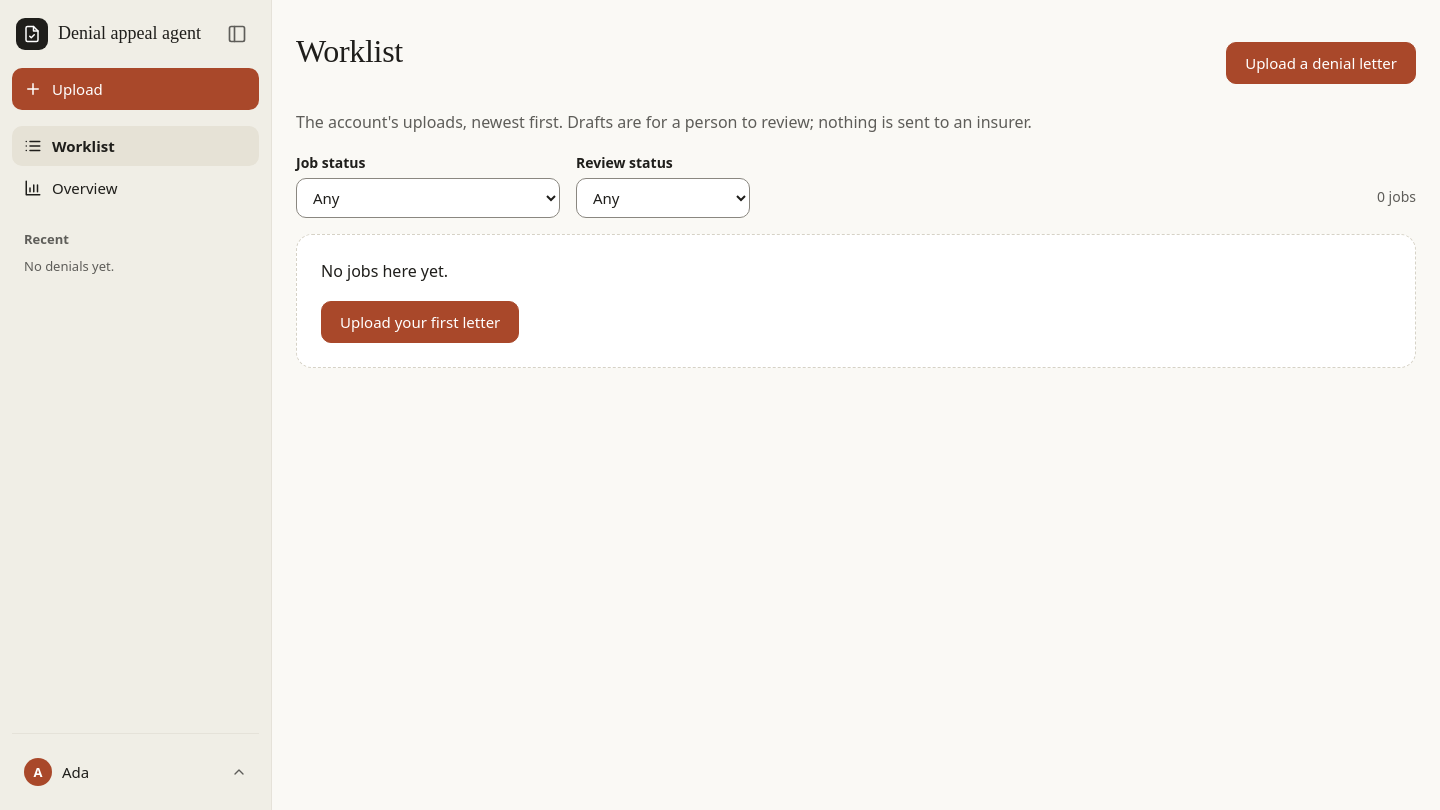
Test: AppLayout › closes the menu when Tab moves the focus out of it, not while it stays inside
Click the button "A Ada" at {"x": 136, "y": 772}, box [16,750,255,794]
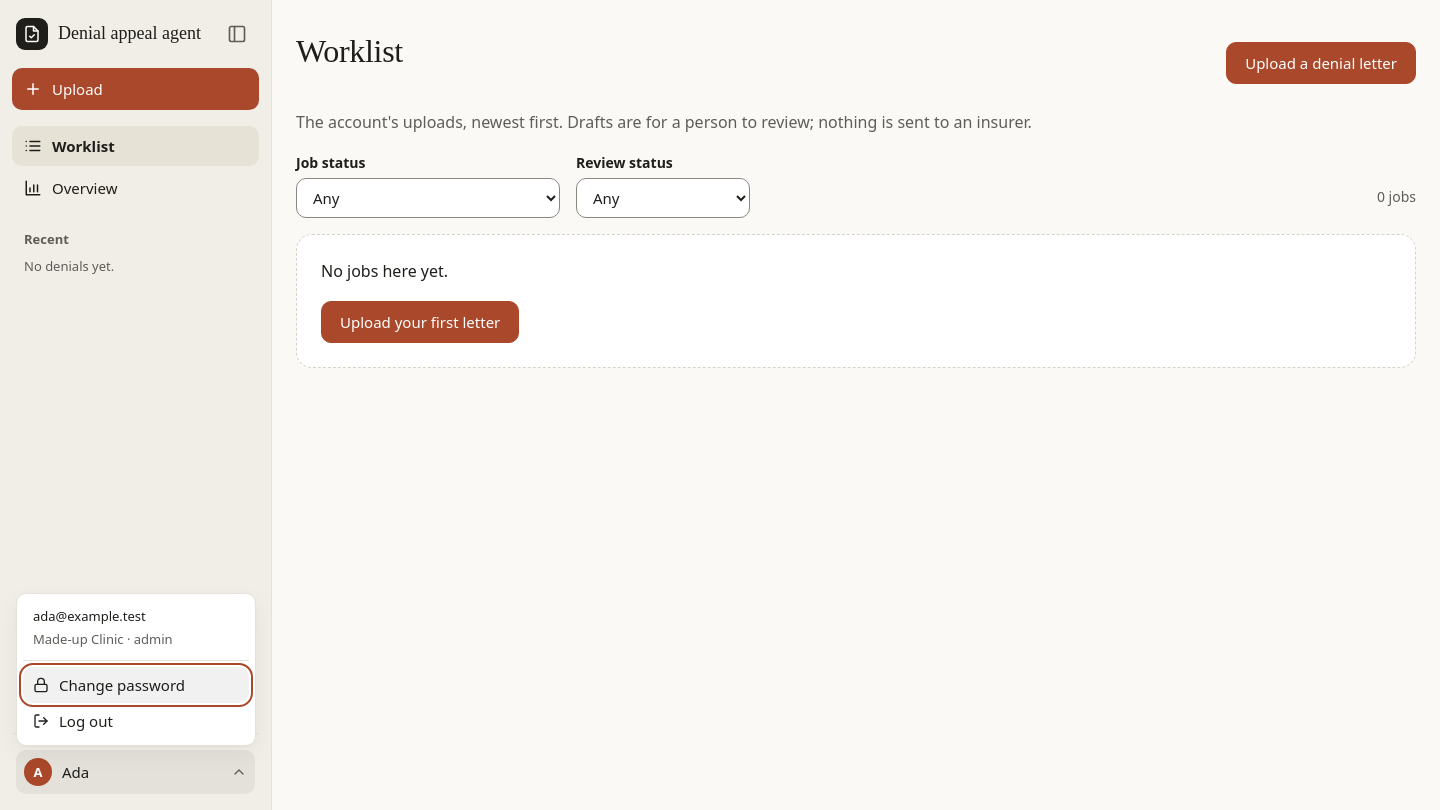
Press Tab
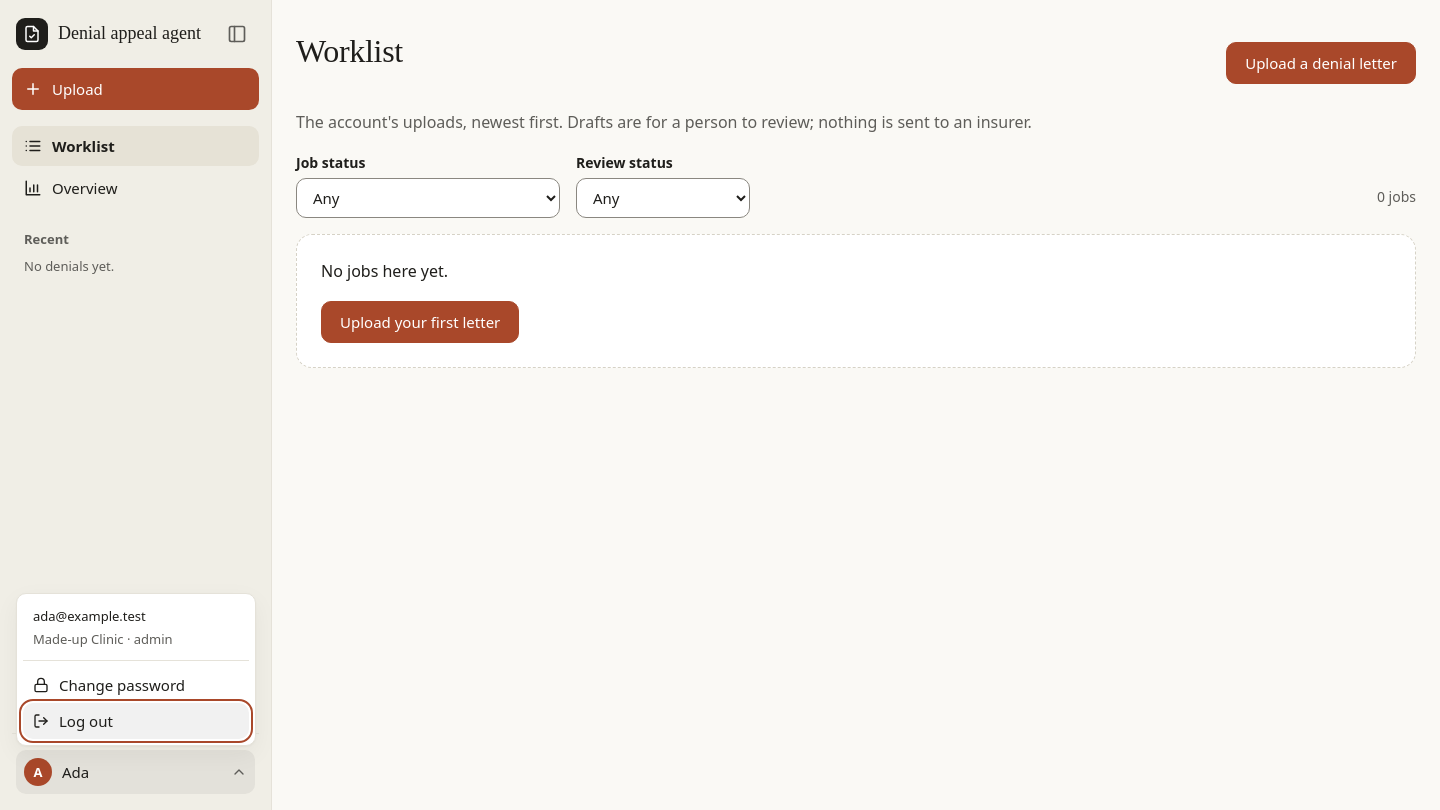
Press Tab
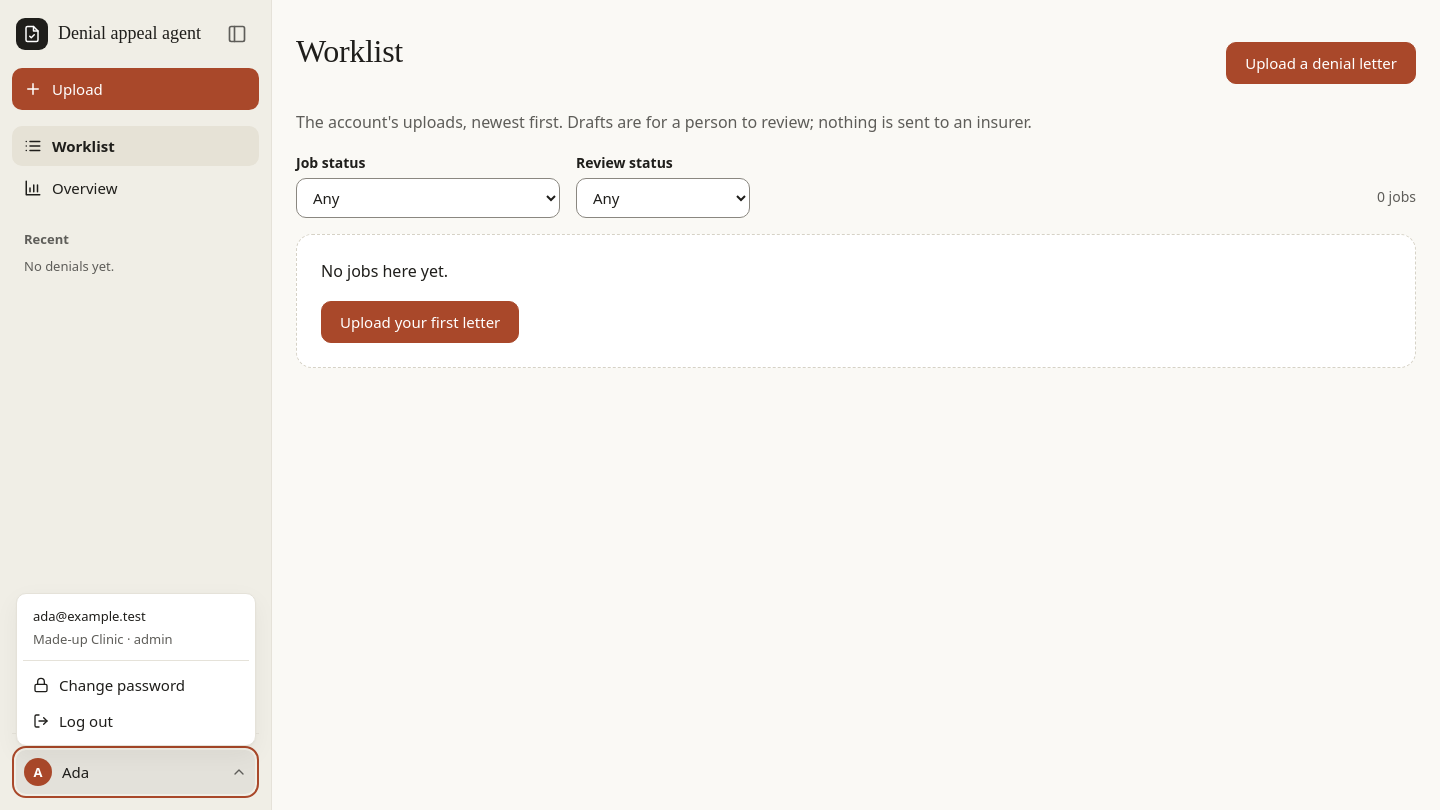
Now the menu is shown, box [16,593,256,746]
Press Tab
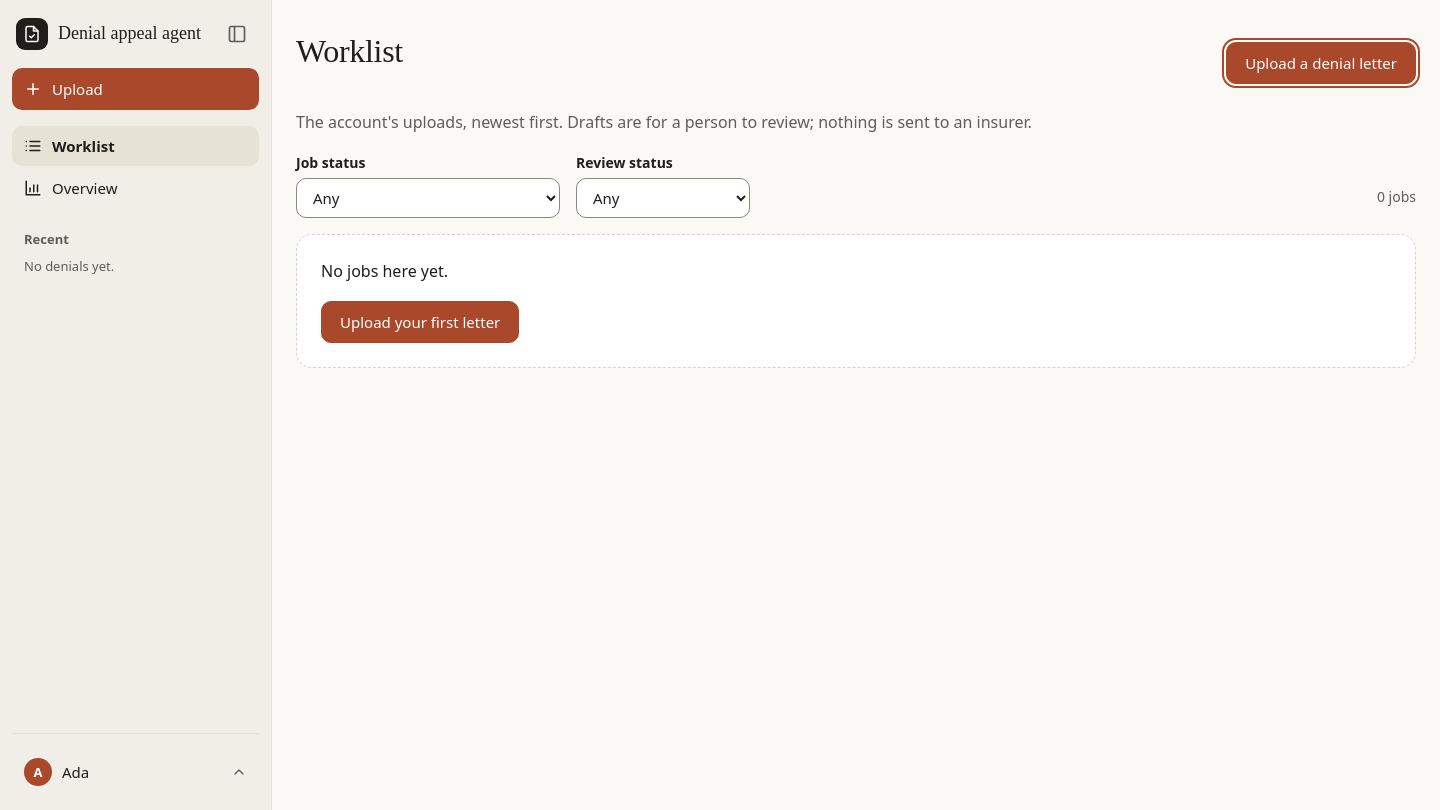
Now the menu is gone
